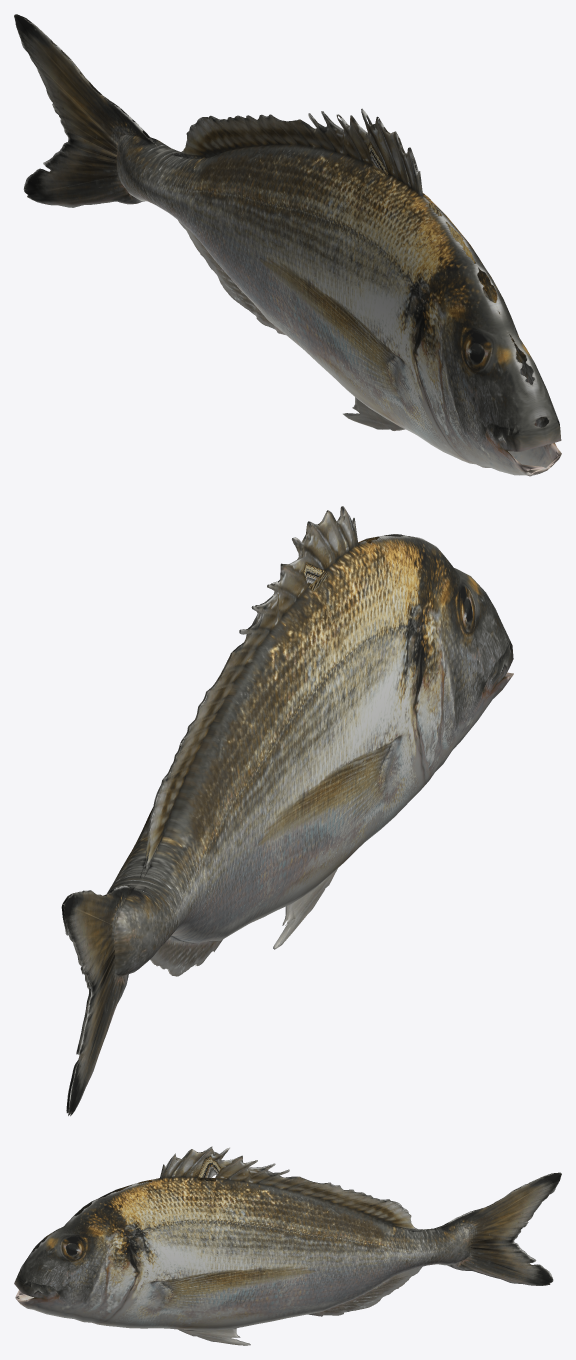
File: dorade.obj
3 renders of one model, top to bottom at view 1: azimuth 30°, elevation 25°; view 2: azimuth 150°, elevation 25°; view 3: azimuth 270°, elevation 25°, orthographic. The views are drawn at different scales.
Parts seen in each view (by area): view 1: Classique; view 2: Classique; view 3: Classique.
Boxes of the visible parts, x1=… form: Classique: x1=14, y1=14, x2=561, y2=476; Classique: x1=61, y1=506, x2=513, y2=1116; Classique: x1=14, y1=1146, x2=561, y2=1345.
Size of the model in its own units: 0.5063 by 1.31 by 3.24.
